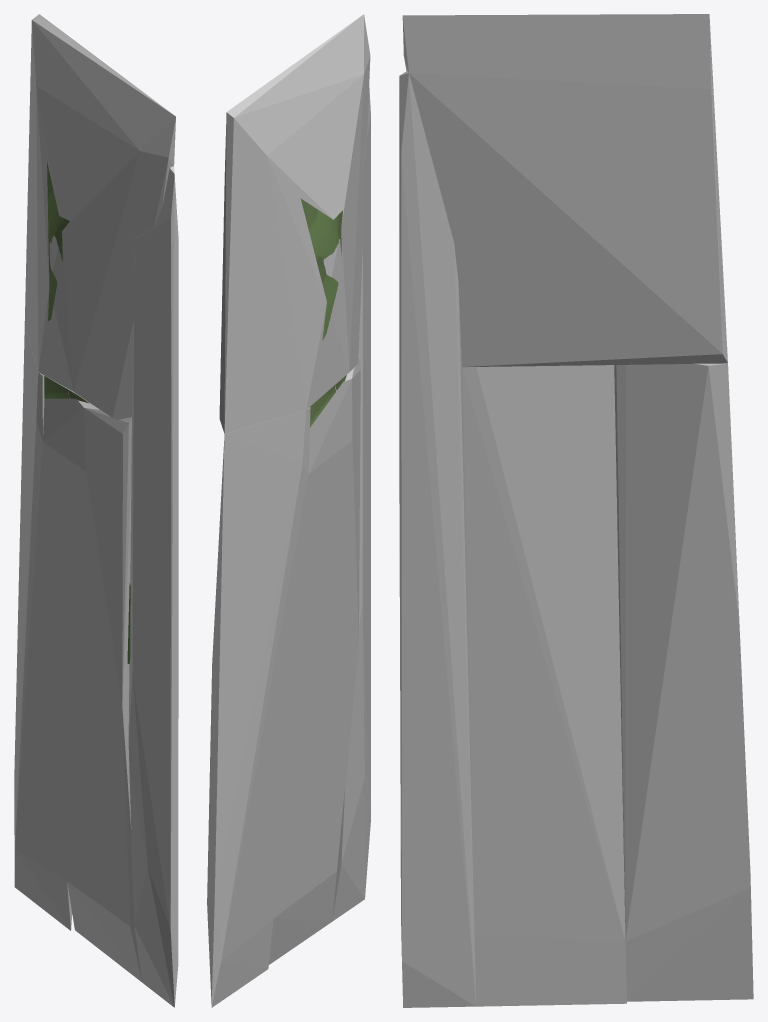
Rendered from SM_Env_Leaves_Line_03.fbx.
3 views of the same model, side by side, from view 1: azimuth 30°, elevation 25°; view 2: azimuth 150°, elevation 25°; view 3: azimuth 270°, elevation 25° (orthographic). The views are drawn at different scales.
Parts seen in each view (by area): view 1: SM_Env_Leaves_Line_03_ConvexHulls, SM_Env_Leaves_Line_03; view 2: SM_Env_Leaves_Line_03_ConvexHulls, SM_Env_Leaves_Line_03; view 3: SM_Env_Leaves_Line_03_ConvexHulls.
Part boxes in pixels (box(x1,y1,x2,y2)): SM_Env_Leaves_Line_03_ConvexHulls: box(14, 14, 178, 1007); SM_Env_Leaves_Line_03: box(44, 162, 130, 663); SM_Env_Leaves_Line_03_ConvexHulls: box(207, 14, 370, 1007); SM_Env_Leaves_Line_03: box(300, 198, 346, 427); SM_Env_Leaves_Line_03_ConvexHulls: box(399, 14, 753, 1007).
Size of the model in its own units: 7.56 by 40.52 by 126.
2 materials, 1 textured.
